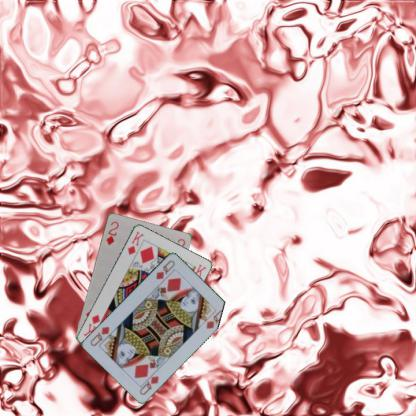2d: (104, 219, 119, 246)
Kd: (125, 228, 145, 256)
Qd: (136, 368, 160, 396), (153, 257, 176, 281)
